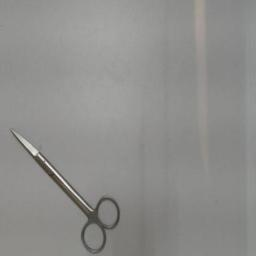Curved Mayo Scissors: (8, 124, 124, 256)
